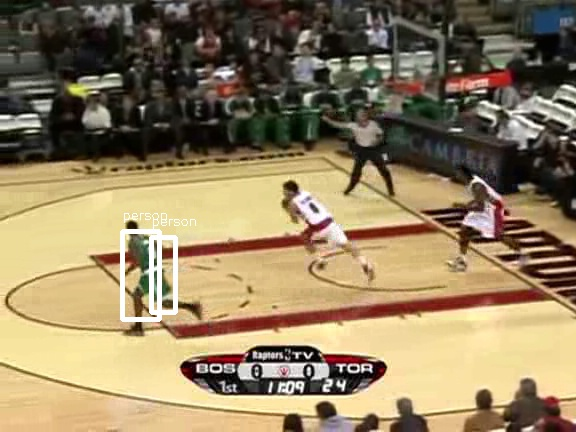person: (132, 228, 166, 309), (131, 228, 165, 309), (133, 228, 167, 309), (132, 227, 166, 308), (132, 229, 166, 310)
target_negative: (256, 139, 389, 246), (404, 174, 457, 325), (276, 348, 315, 394), (430, 249, 438, 404), (483, 402, 564, 411), (39, 100, 52, 124)
